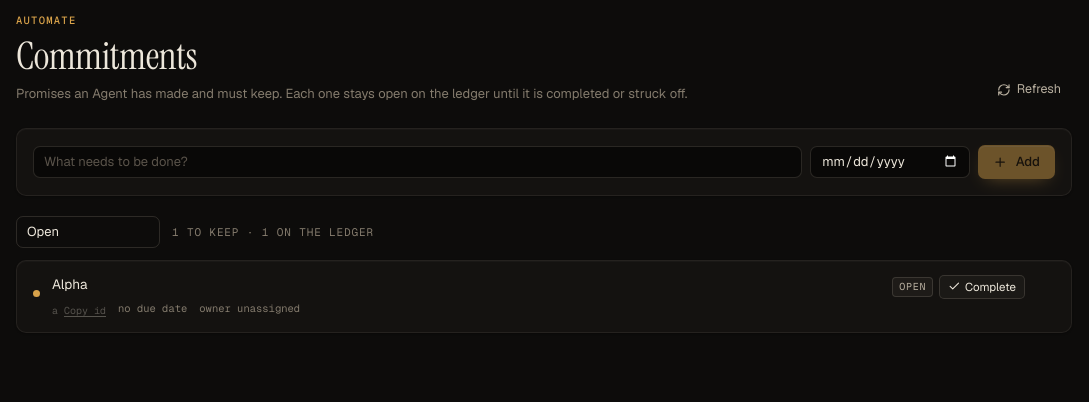
Test case: does not treat a false write result as confirmation
expect the text "Alpha" is shown: met, box [52,275,87,293]
Click the button "Complete".
click(982, 287)  # box [939,275,1025,299]
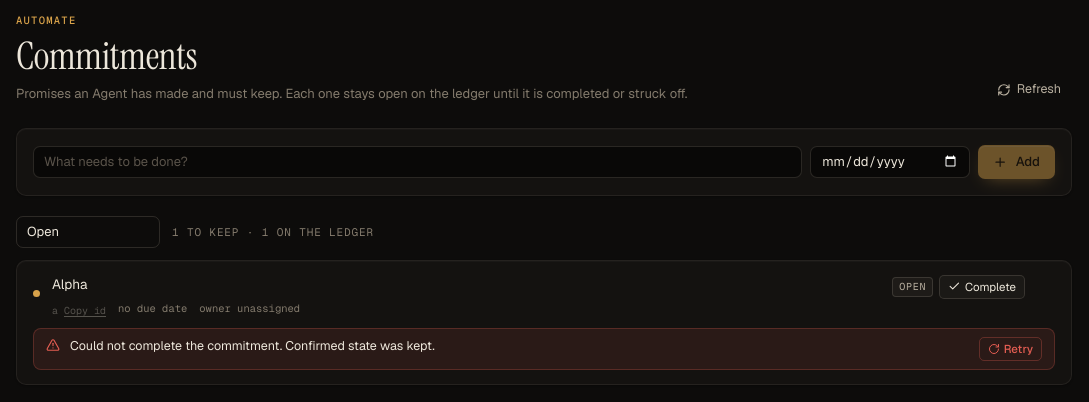
expect the message shows "Could not complete": met, box [33,328,1055,370]
